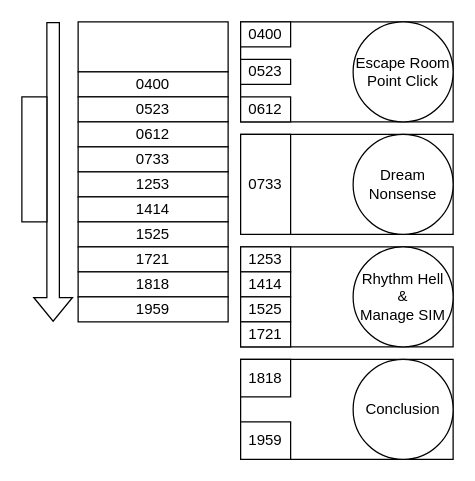
This 475x481 diagram has some shape labels left out. The centre of each missing label's shape, as x and y in pixels:
HORARIOS: the point at 152,46
Unlock Order: the point at 34,159
